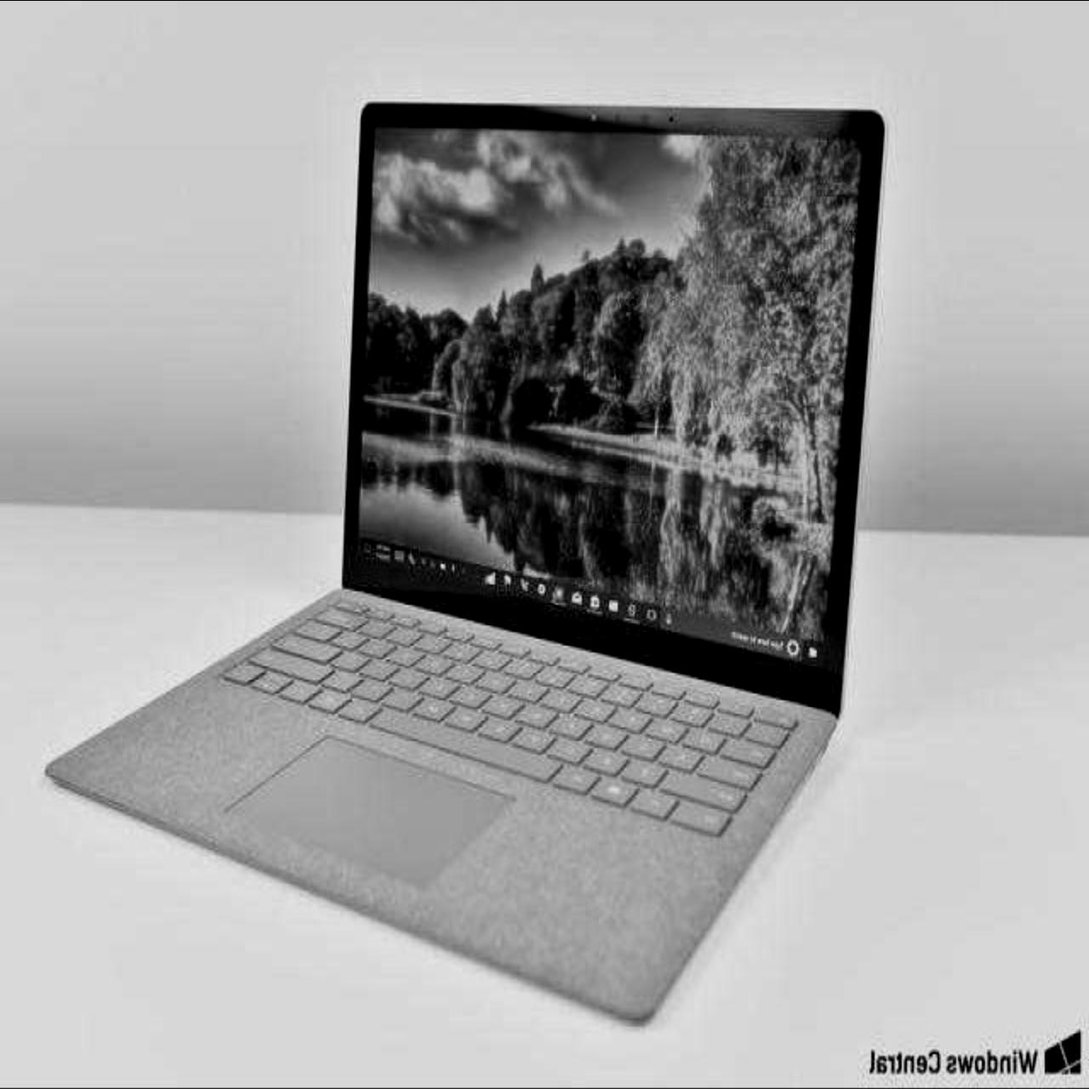laptop: (362, 111, 772, 842)
